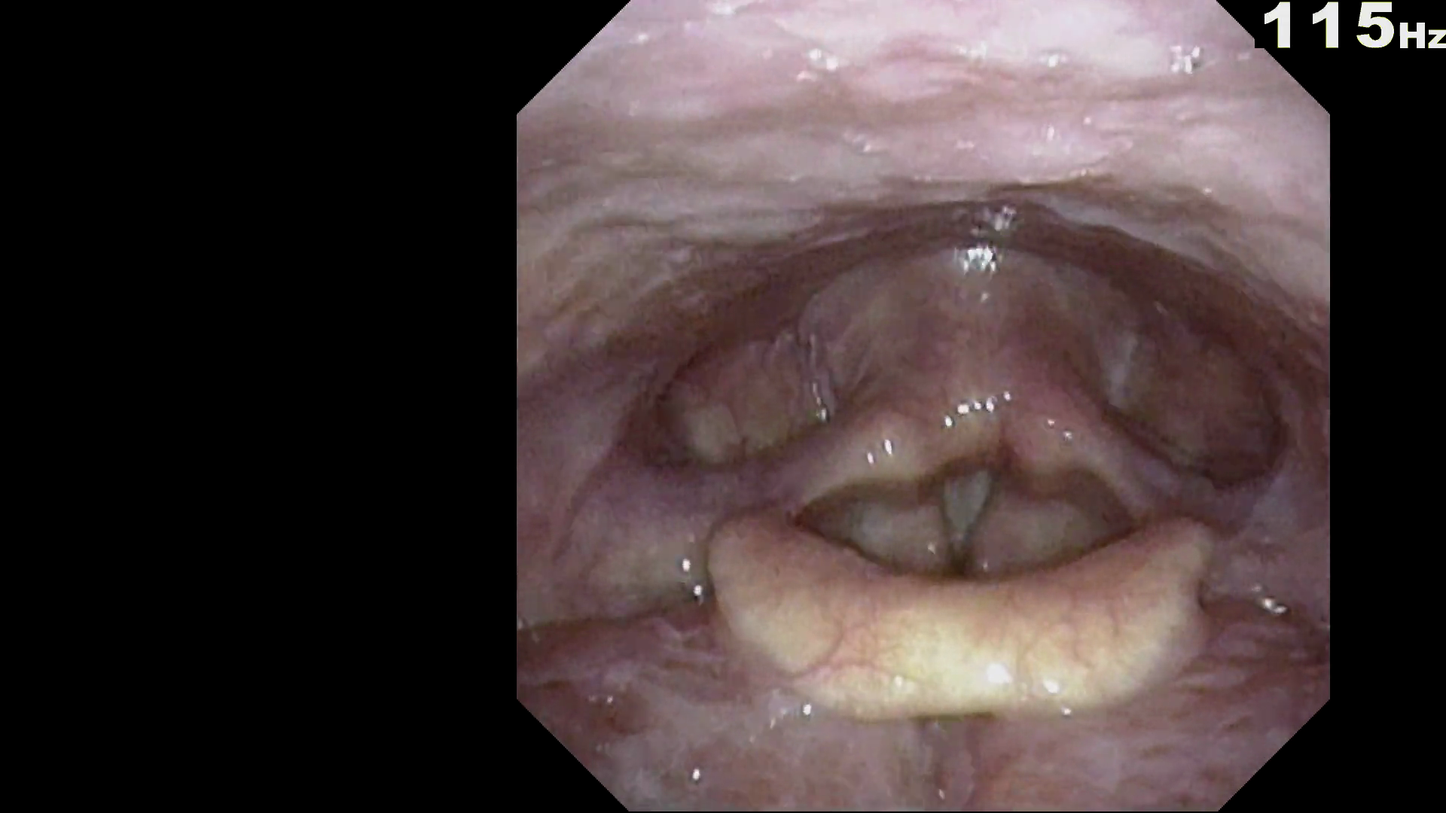epiglottis: (680, 504, 1269, 696)
trachea: (920, 445, 1030, 570)
